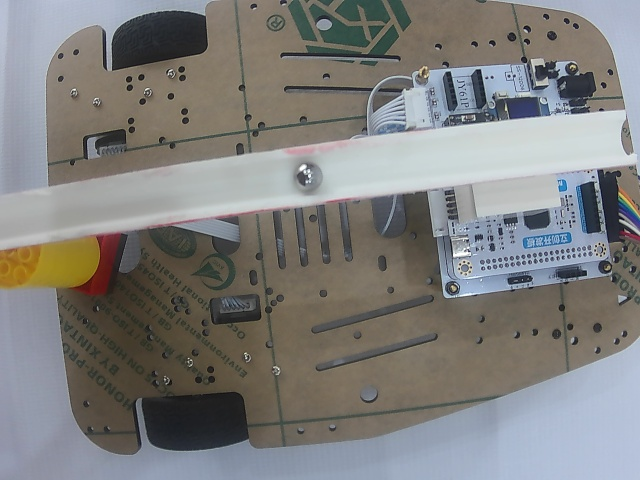steelball: (293, 161, 324, 193)
